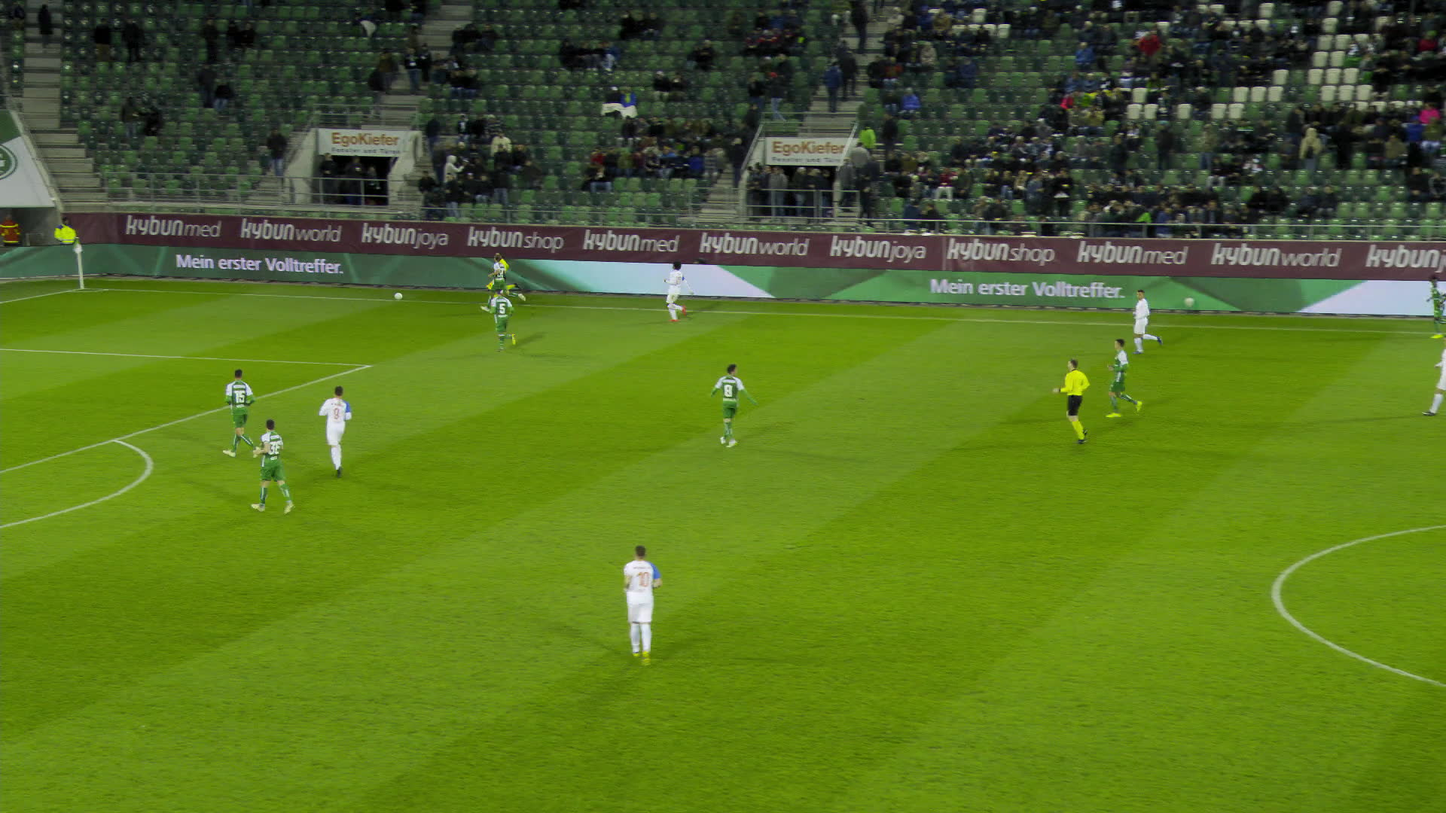ball: (394, 289, 404, 299)
player: (617, 544, 656, 662), (705, 364, 758, 444), (249, 420, 295, 512), (218, 369, 266, 455), (313, 387, 356, 474), (1100, 340, 1139, 416), (483, 288, 523, 352), (1125, 288, 1164, 352), (660, 260, 694, 321), (484, 254, 523, 304), (1424, 274, 1445, 337), (1429, 338, 1445, 415)
referee: (1049, 360, 1095, 439), (487, 250, 520, 297)
